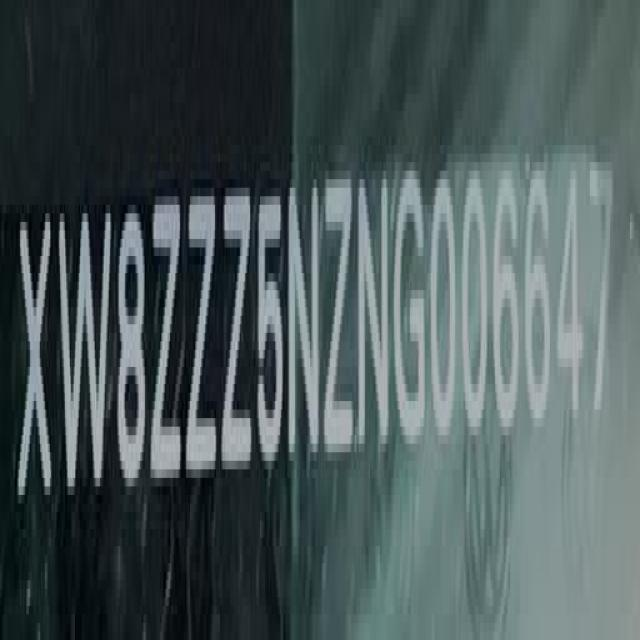0: (462, 159, 492, 445), (430, 162, 459, 451)
4: (555, 156, 588, 434)
5: (258, 175, 286, 488)
6: (493, 164, 524, 442), (525, 164, 553, 440)
7: (586, 148, 616, 424)
8: (119, 203, 148, 502)
G: (394, 159, 431, 455)
N: (290, 170, 324, 478), (361, 156, 395, 463)
W: (58, 198, 112, 519)
X: (16, 208, 51, 525)
Z: (189, 179, 221, 498), (151, 188, 181, 502), (324, 162, 354, 475), (224, 174, 253, 486)
